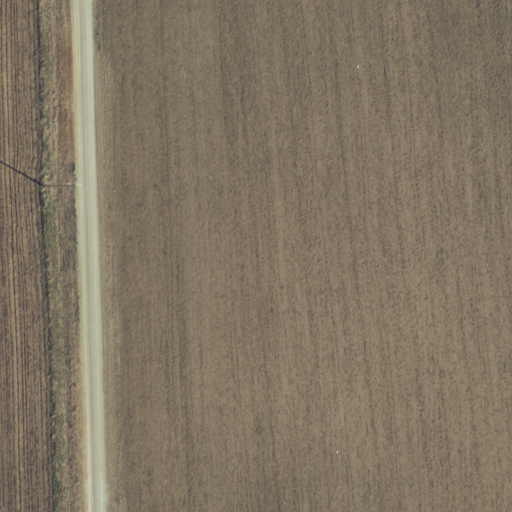DT: (34, 167, 79, 200)
